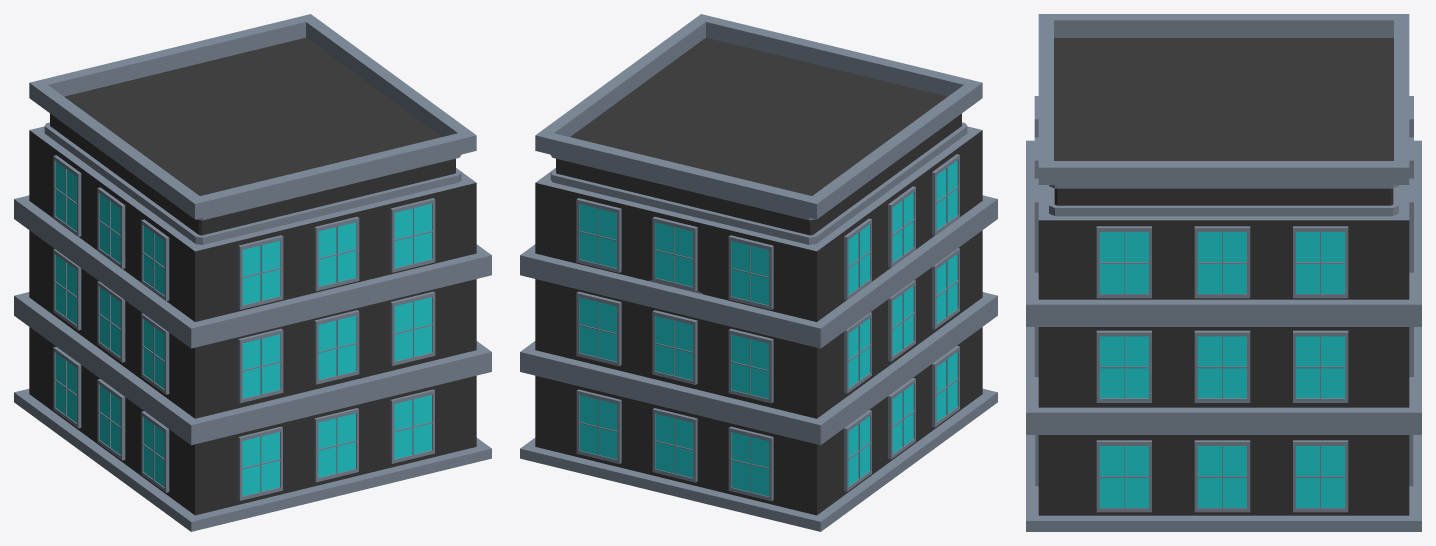
File: RooftopRoom.fbx
3 views of the same model, side by side, from view 1: azimuth 30°, elevation 25°; view 2: azimuth 150°, elevation 25°; view 3: azimuth 270°, elevation 25° (orthographic). The views are drawn at different scales.
Visible parts, largest first — view 1: ApartmentRoof; view 2: ApartmentRoof; view 3: ApartmentRoof.
Part boxes in pixels (box(x1,y1,x2,y2)): ApartmentRoof: box(14, 14, 491, 531); ApartmentRoof: box(520, 14, 997, 531); ApartmentRoof: box(1026, 14, 1421, 531).
Size of the model in its own units: 2769 by 2828 by 2825.
